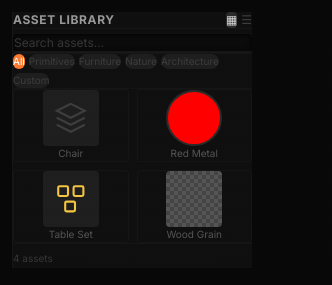
Test: AssetBrowserPanel › shows "No assets found" when search matches nothing
This screenshot has width=332, height=285.
Type "zzzznonexistent" into the field labelled "Search assets" at (132, 43), box [13, 34, 252, 52]
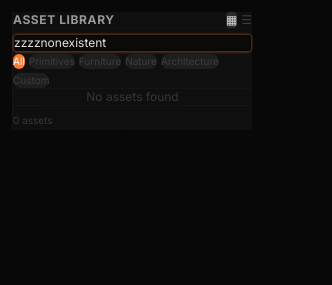
Result: the text "No assets found" is shown at [86, 89, 179, 105]
